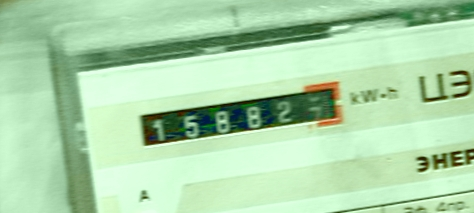1: (150, 120, 167, 147)
2: (274, 100, 293, 128)
5: (180, 116, 199, 143)
7: (306, 106, 322, 124)
8: (211, 111, 231, 138), (242, 105, 262, 132)
screen: (123, 75, 355, 165)
